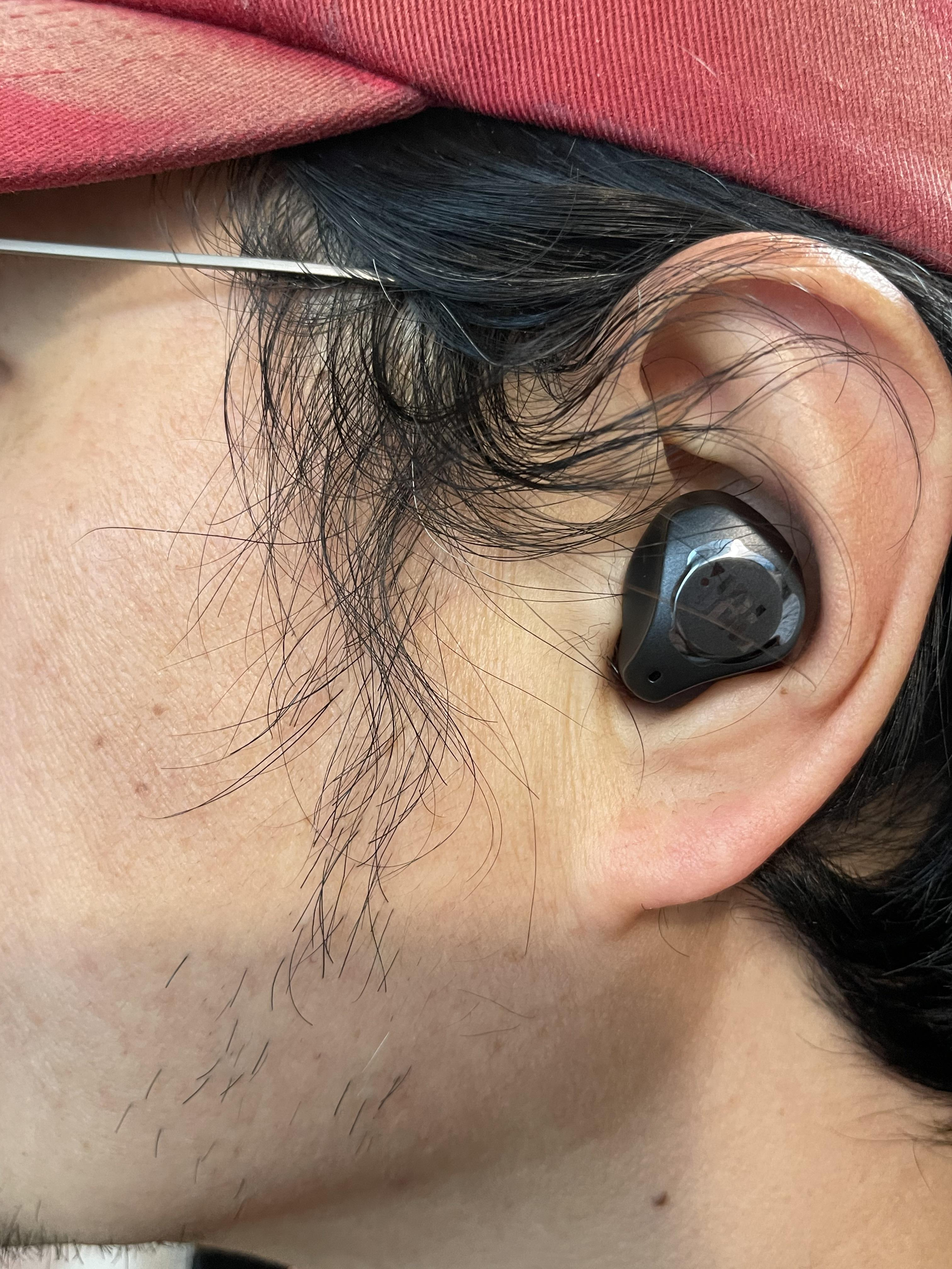earphone: (596, 475, 835, 737)
